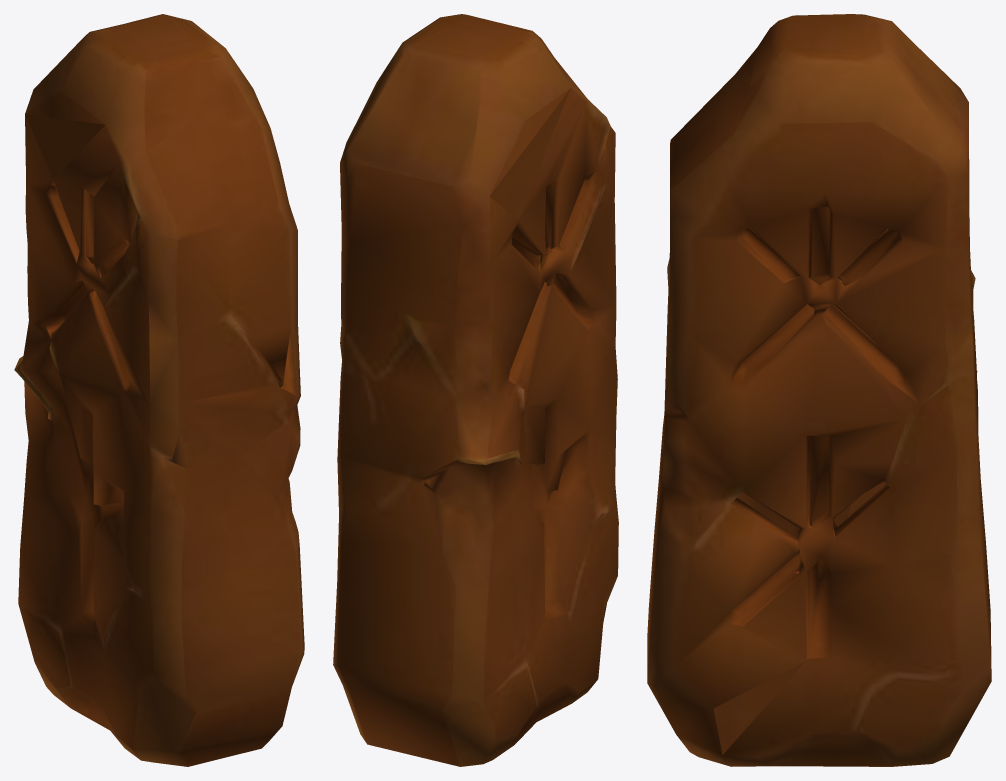
The model's file is sz-runestone-leaning.glb.
3 renders of one model, left to right at view 1: azimuth 30°, elevation 25°; view 2: azimuth 150°, elevation 25°; view 3: azimuth 270°, elevation 25°, orthographic. The views are drawn at different scales.
Visible parts, largest first — view 1: geometry_0; view 2: geometry_0; view 3: geometry_0.
Part boxes in pixels (x1,y1,x2,y2): geometry_0: (14, 14, 304, 766); geometry_0: (333, 14, 618, 766); geometry_0: (647, 14, 991, 766).
Bounding box in the file's own units: 0.2402 × 1 × 0.4435.
Materials: 1 (1 with a texture image).
